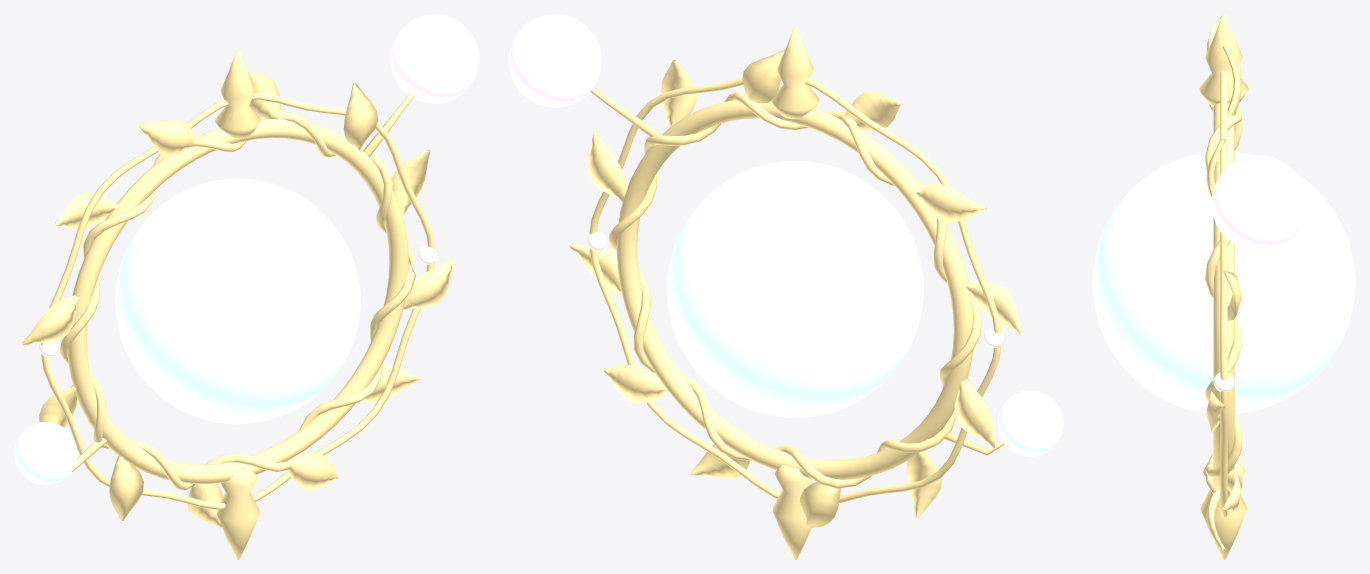
File: comfort_sign_garden.glb
3 views of the same model, side by side, from view 1: azimuth 30°, elevation 25°; view 2: azimuth 150°, elevation 25°; view 3: azimuth 270°, elevation 25° (orthographic). The views are drawn at different scales.
Parts seen in each view (by area): view 1: GardenWreathGold, GardenMainBubble, GardenCompanionBubble_A, GardenCompanionBubble_B; view 2: GardenWreathGold, GardenMainBubble, GardenCompanionBubble_A, GardenCompanionBubble_B; view 3: GardenMainBubble, GardenWreathGold, GardenCompanionBubble_A.
Boxes of the visible parts, bbox=[...] form: GardenWreathGold: bbox=[21, 50, 454, 559]; GardenMainBubble: bbox=[115, 178, 360, 424]; GardenCompanionBubble_A: bbox=[390, 14, 479, 103]; GardenCompanionBubble_B: bbox=[14, 422, 77, 485]; GardenWreathGold: bbox=[569, 26, 1021, 559]; GardenMainBubble: bbox=[666, 161, 924, 418]; GardenCompanionBubble_A: bbox=[508, 14, 601, 107]; GardenCompanionBubble_B: bbox=[997, 390, 1063, 456]; GardenMainBubble: bbox=[1092, 152, 1355, 413]; GardenWreathGold: bbox=[1199, 14, 1248, 559]; GardenCompanionBubble_A: bbox=[1211, 155, 1307, 251].
Bounding box in the file's own units: 1.03 × 1.03 × 0.45.
